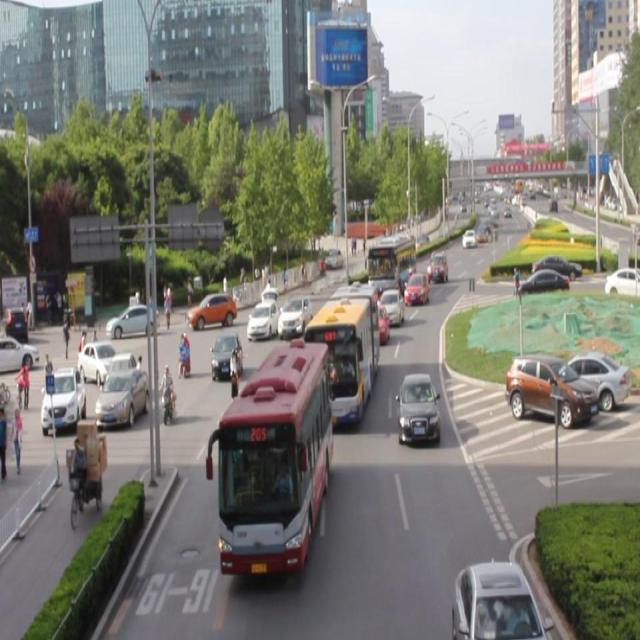car: (456, 562, 542, 640), (398, 373, 440, 444), (253, 363, 297, 423), (186, 292, 237, 330), (212, 330, 243, 379), (339, 287, 376, 328), (279, 294, 312, 338), (248, 296, 279, 340), (364, 304, 389, 344), (376, 289, 403, 325), (402, 272, 429, 308), (425, 250, 448, 282)
van: (220, 341, 328, 570), (308, 286, 376, 426), (368, 236, 414, 300)
